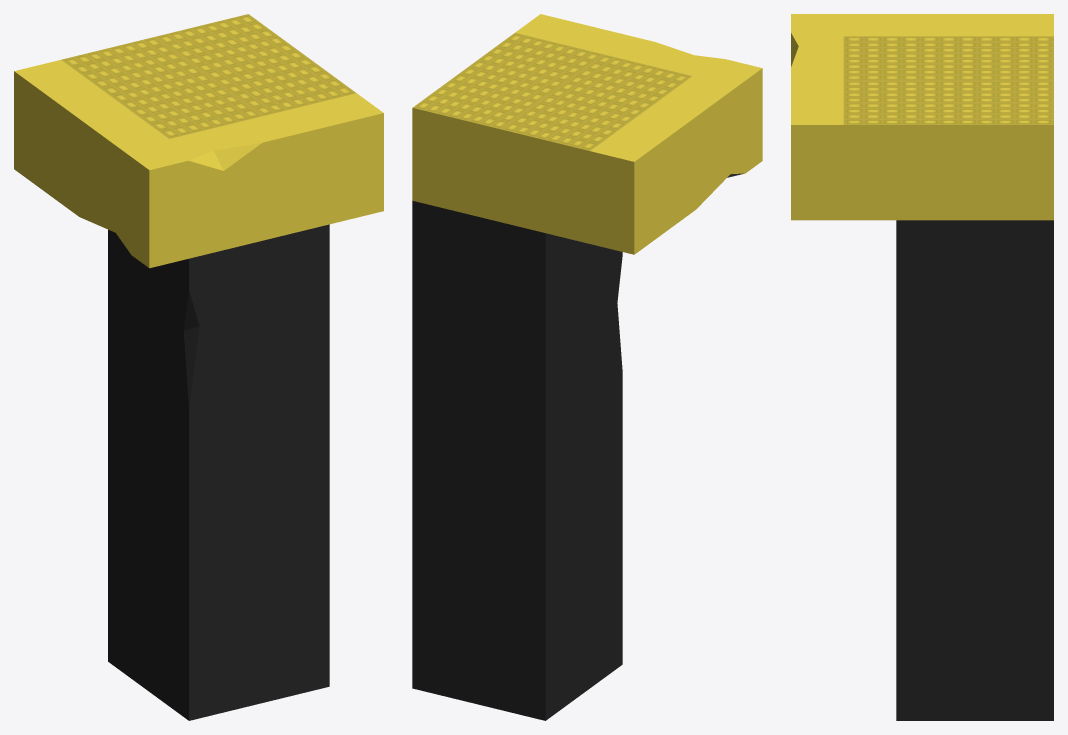
The model's file is SW_ENV_PlatformEdge_B_Crnr_02.fbx.
3 renders of one model, left to right at view 1: azimuth 30°, elevation 25°; view 2: azimuth 150°, elevation 25°; view 3: azimuth 270°, elevation 25°, orthographic. The views are drawn at different scales.
Visible parts, largest first — view 1: SW_ENV_PlatformEdge_B_Crnr_02; view 2: SW_ENV_PlatformEdge_B_Crnr_02; view 3: SW_ENV_PlatformEdge_B_Crnr_02.
Part boxes in pixels (x1=…): SW_ENV_PlatformEdge_B_Crnr_02: x1=14, y1=14, x2=383, y2=720; SW_ENV_PlatformEdge_B_Crnr_02: x1=412, y1=14, x2=762, y2=720; SW_ENV_PlatformEdge_B_Crnr_02: x1=791, y1=14, x2=1053, y2=720.
Bounding box in the file's own units: 50 × 125 × 50.
